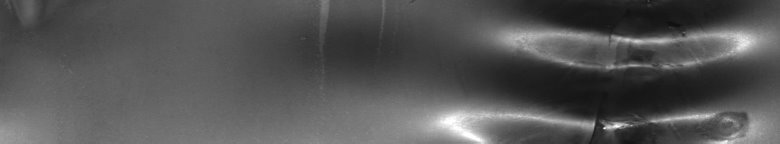ke: (317, 4, 761, 136)
